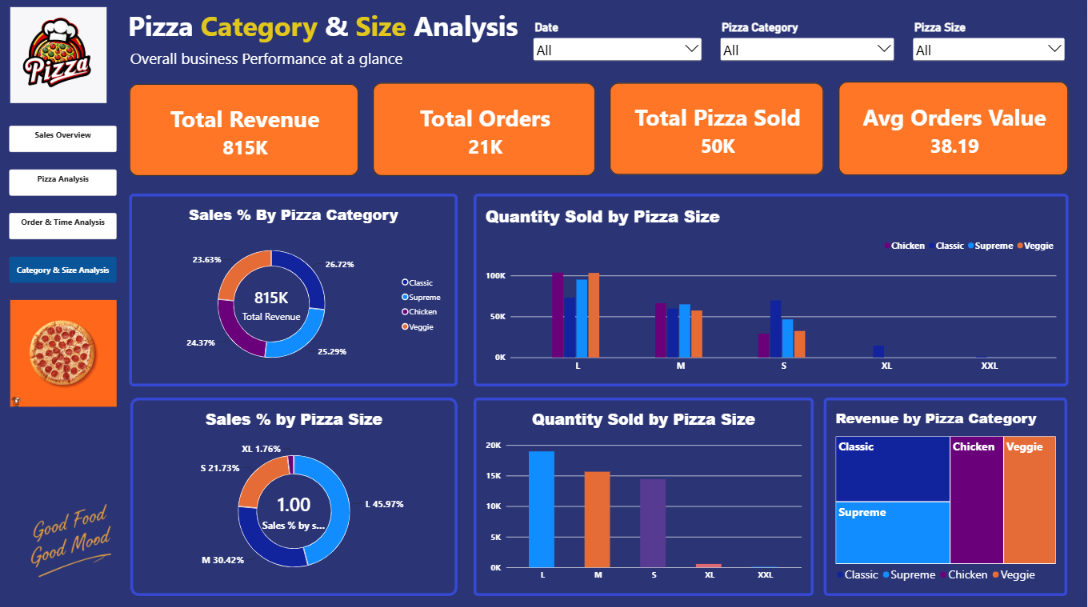

The dashboard page shown, as its layout file describes it:
{"tool":"powerbi","page":{"name":"Category & Size Analysis","canvas":[1920,1080],"ordinal":3},"visuals":[{"type":"image","box":[18.8,15.1,170,170.8],"z":0},{"type":"textbox","box":[225,15,850,78.3],"z":1000},{"type":"textbox","box":[230,87.5,512.9,38.8],"z":2000},{"type":"cardVisual","fields":{"Data":["Measure.Total Revenue"]},"box":[227.6,151.3,405.1,163.9],"z":3000},{"type":"cardVisual","fields":{"Data":["Measure.Total Orders"]},"box":[657.6,149.9,393.8,165.8],"z":4000},{"type":"cardVisual","fields":{"Data":["Measure.Total Pizza Sold"]},"box":[1076.3,150.8,378.7,163.9],"z":5000},{"type":"cardVisual","fields":{"Data":["Measure.Avg Orders Value"]},"box":[1480,148.3,406,166],"z":6000},{"type":"donutChart","title":"Sales % by Pizza Size ","fields":{"Category":["Dim_Pizza.pizza_size"],"Y":["Measure.Sales % by size"]},"box":[230,705,577.5,350],"z":7000},{"type":"columnChart","title":"Quantity Sold by Pizza Size","fields":{"Category":["Dim_Pizza.pizza_size"],"Y":["Measure.Total Pizza Sold"]},"box":[835,705,600,350],"z":8000},{"type":"donutChart","title":"Sales % By Pizza Category","fields":{"Category":["Dim_Pizza.pizza_category"],"Y":["Measure.Sales % by Category"]},"box":[227.5,345,580,340],"z":9000},{"type":"clusteredColumnChart","title":"Quantity Sold by Pizza Size","fields":{"Category":["Dim_Pizza.pizza_size"],"Series":["Dim_Pizza.pizza_category"],"Y":["Measure.Total Revenue"]},"box":[835,345,1050,340],"z":10000},{"type":"treemap","title":"Revenue by Pizza Category","fields":{"Group":["Dim_Pizza.pizza_category"],"Values":["Measure.Total Revenue"]},"box":[1454.6,705.7,430.2,350.6],"z":11000},{"type":"slicer","fields":{"Values":["Dim_Pizza.pizza_size"]},"box":[1606.7,26.7,278.8,103.8],"z":12000},{"type":"slicer","fields":{"Values":["Dim_Pizza.pizza_category"]},"box":[1266.7,26.7,317.5,120],"z":13000},{"type":"slicer","fields":{"Values":["Dim_Date.Year Hierarchy.Year","Dim_Date.Year Hierarchy.Start of Quarter","Dim_Date.Year Hierarchy.Start of Month","Dim_Date.Year Hierarchy.Start of Week","Dim_Date.Year Hierarchy.Day Name","Dim_Date.Year Hierarchy.Month Name"]},"box":[936.7,26.7,307.8,92.2],"z":14000},{"type":"pageNavigator","box":[15,225,190,280],"z":15000},{"type":"image","box":[0,846,236,234],"z":16000},{"type":"image","box":[18,528,188,200],"z":17000}]}

Visuals, with their boxes in screenshot pixels (x1, y1, x2, y2), scaled from the page's 1920x1080 canvas onto the 1088x607 screenshot:
image: [11,8,107,104]
textbox: [128,8,609,52]
textbox: [130,49,421,71]
cardVisual - Measure.Total Revenue: [129,85,359,177]
cardVisual - Measure.Total Orders: [373,84,596,177]
cardVisual - Measure.Total Pizza Sold: [610,85,824,177]
cardVisual - Measure.Avg Orders Value: [839,83,1069,177]
"Sales % by Pizza Size " donutChart: [130,396,458,593]
"Quantity Sold by Pizza Size" columnChart: [473,396,813,593]
"Sales % By Pizza Category" donutChart: [129,194,458,385]
"Quantity Sold by Pizza Size" clusteredColumnChart: [473,194,1068,385]
"Revenue by Pizza Category" treemap: [824,397,1068,594]
slicer - Dim_Pizza.pizza_size: [910,15,1068,73]
slicer - Dim_Pizza.pizza_category: [718,15,898,82]
slicer - Dim_Date.Year Hierarchy.Year x Dim_Date.Year Hierarchy.Start of Quarter: [531,15,705,67]
pageNavigator: [8,126,116,284]
image: [0,475,134,606]
image: [10,297,117,409]
